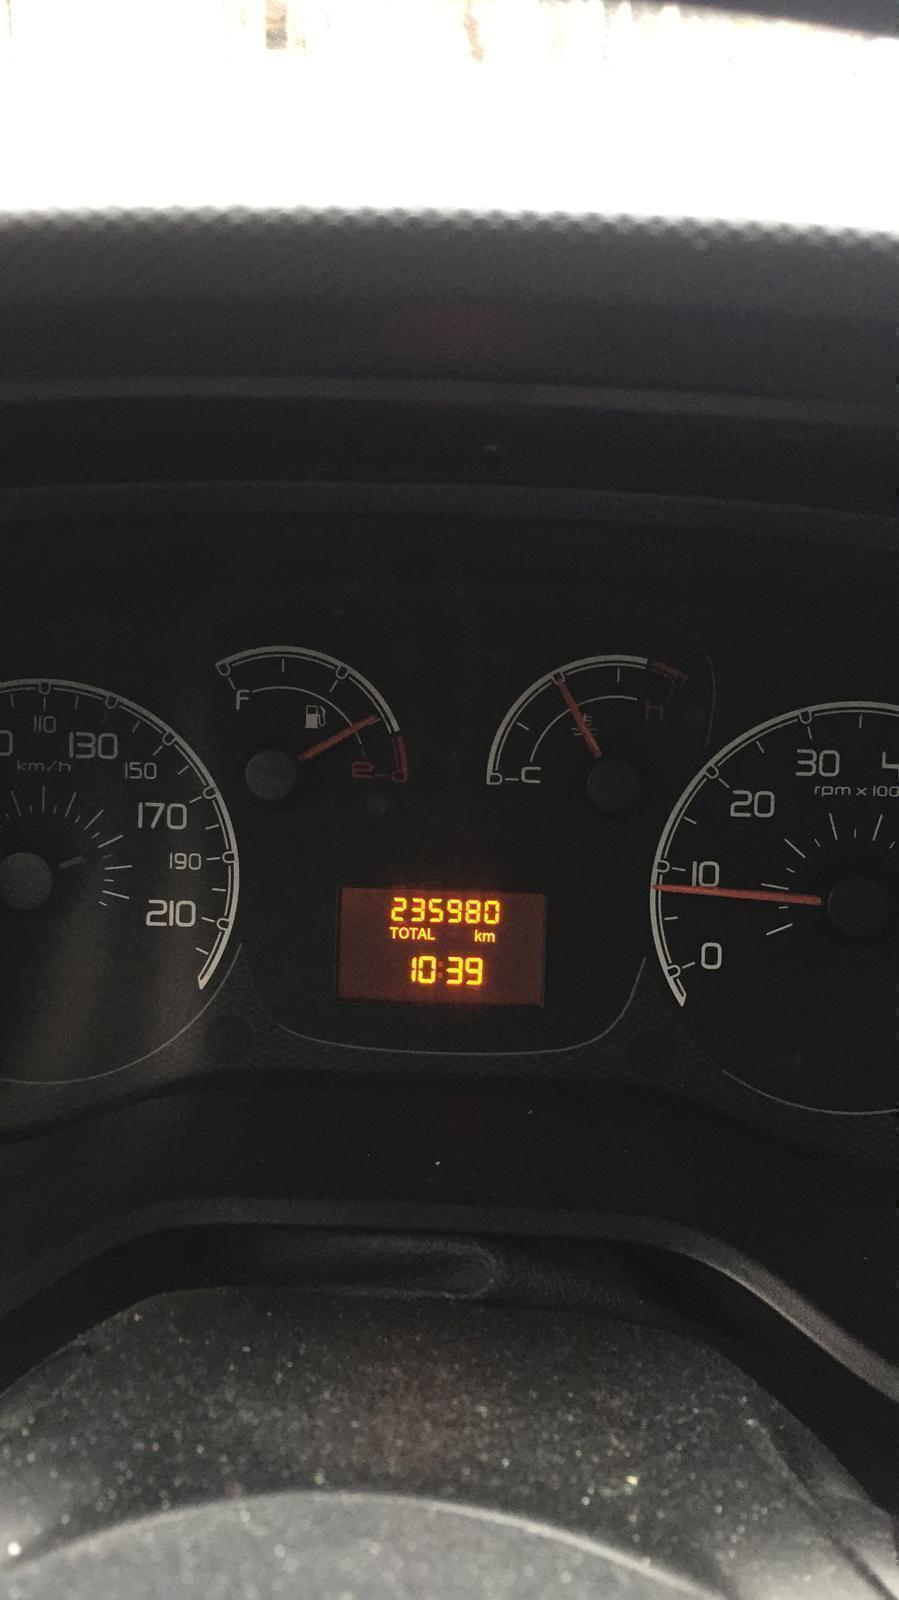0: (417, 954, 436, 985), (482, 897, 501, 924)
1: (410, 953, 417, 985)
2: (390, 895, 406, 922)
3: (446, 954, 462, 986), (409, 895, 426, 922)
5: (428, 896, 444, 923)
8: (465, 898, 481, 923)
9: (464, 956, 484, 986), (446, 896, 462, 924)
X: (436, 957, 444, 984), (482, 930, 496, 944), (388, 924, 399, 941), (471, 927, 482, 944), (409, 925, 419, 941), (398, 926, 409, 940), (426, 927, 436, 942), (418, 927, 425, 940)
odometer: (335, 887, 550, 1010)
